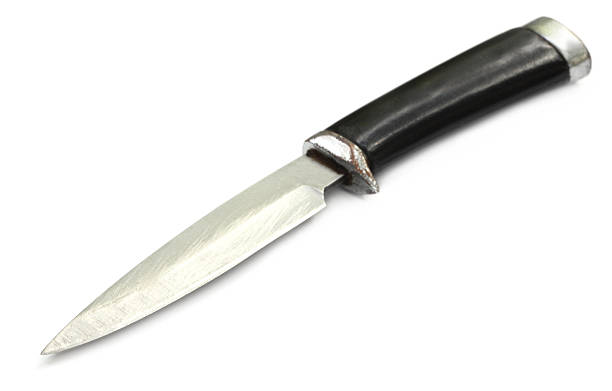knife: (39, 15, 594, 356)
